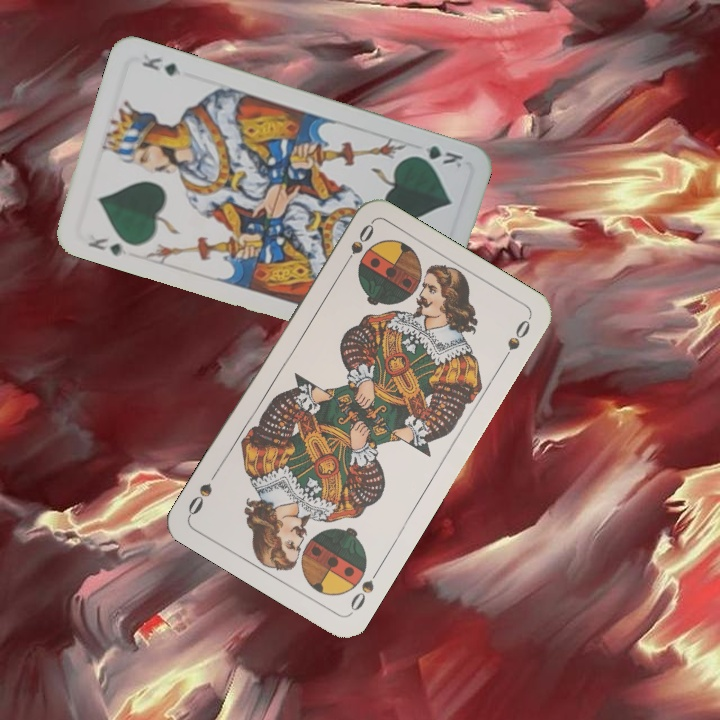GK: (408, 141, 465, 170), (83, 233, 124, 259)
SO: (338, 219, 377, 272), (346, 563, 383, 617)
